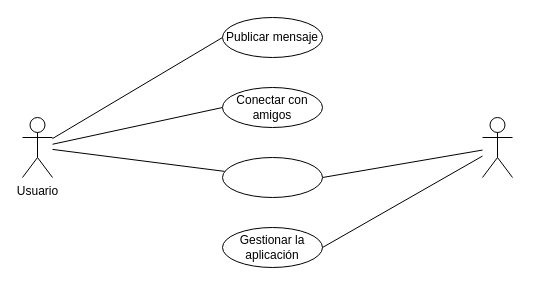
Image size: 552x285. Some labels were removed from this diagram. Here are the shapes that lost their labels. From the top down, the centre of each, then its label:
At (497,147): "Administrador".
At (272,177): "Eliminar publicación".
